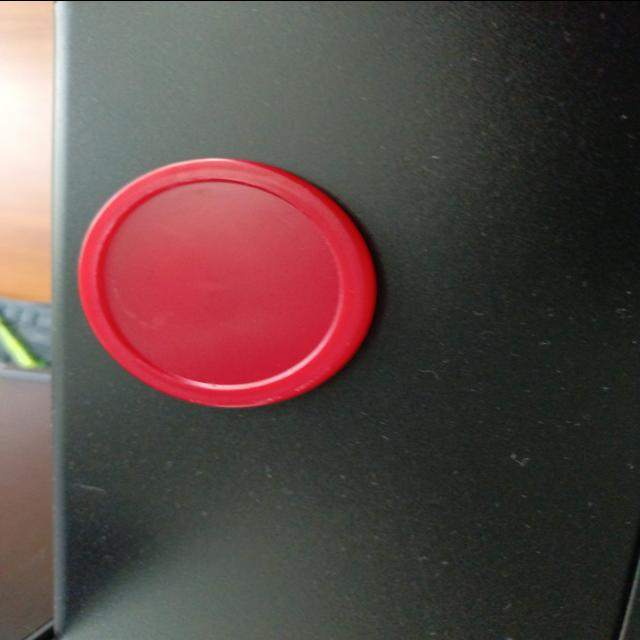chip: (72, 153, 382, 413)
